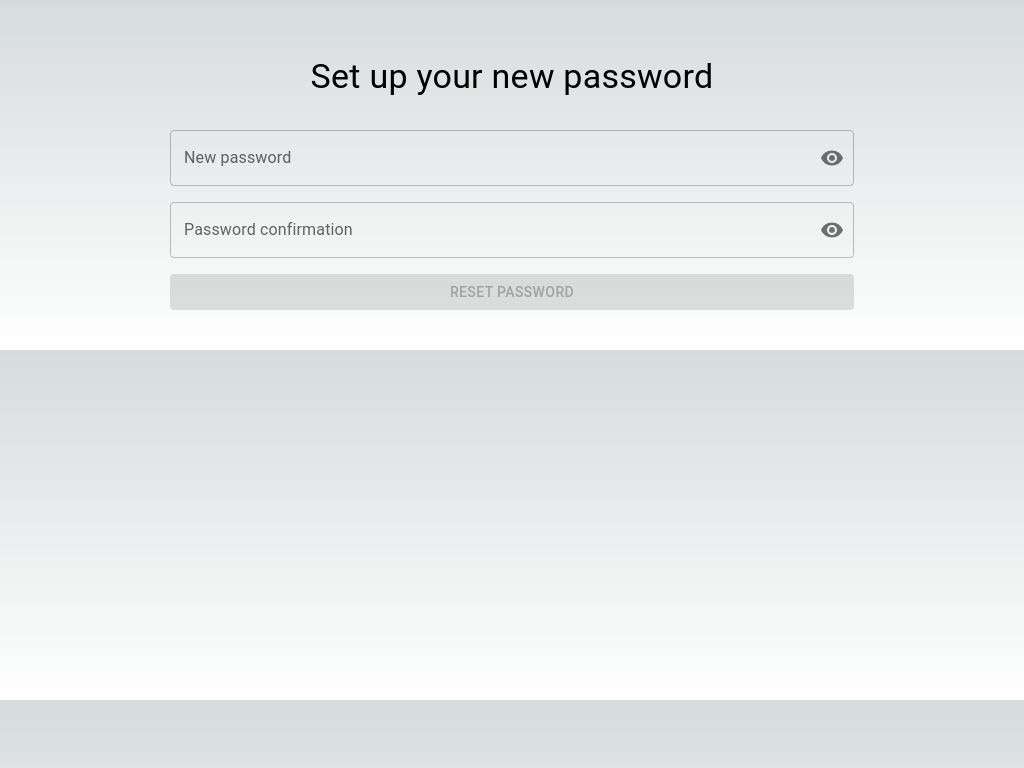
Test: Reset Password Container › Submit Button State › should be disabled if the passwords do not match
Type "Rodrizio.123" into the password field labelled "New password".
click(487, 158); type("Rodrizio.123")  # box [170,130,804,186]
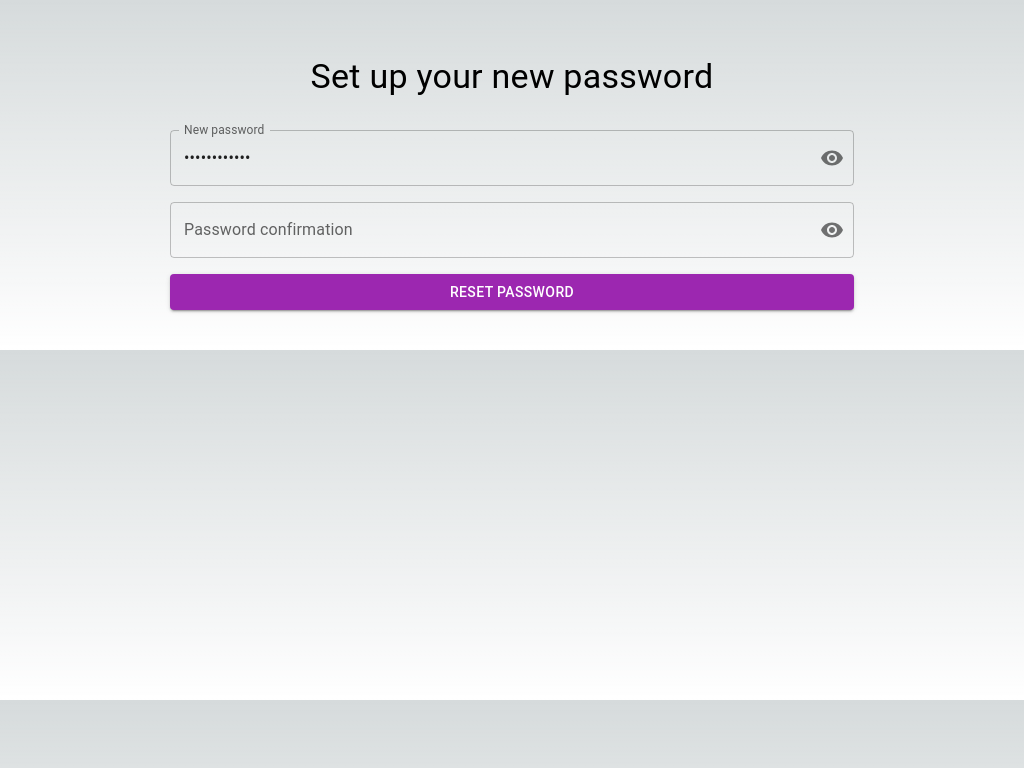
Type "Random.456" into the password field labelled "Password confirmation".
click(487, 230); type("Random.456")  # box [170,202,804,258]
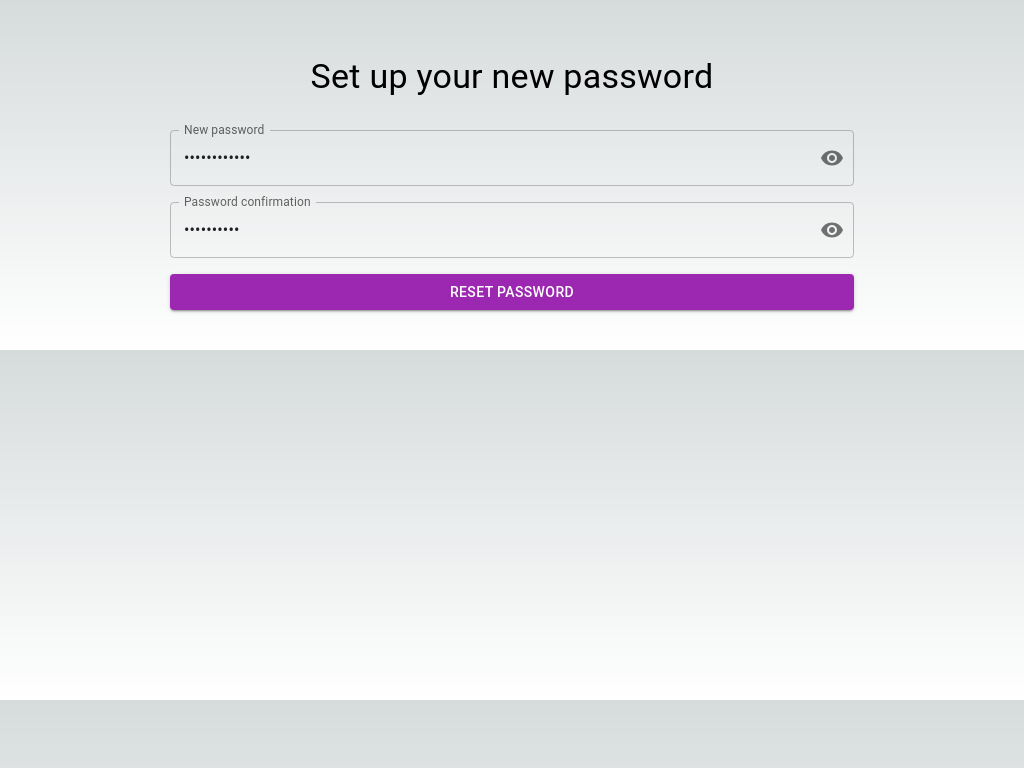
Leave the password field labelled "Password confirmation", box [170,202,804,258]
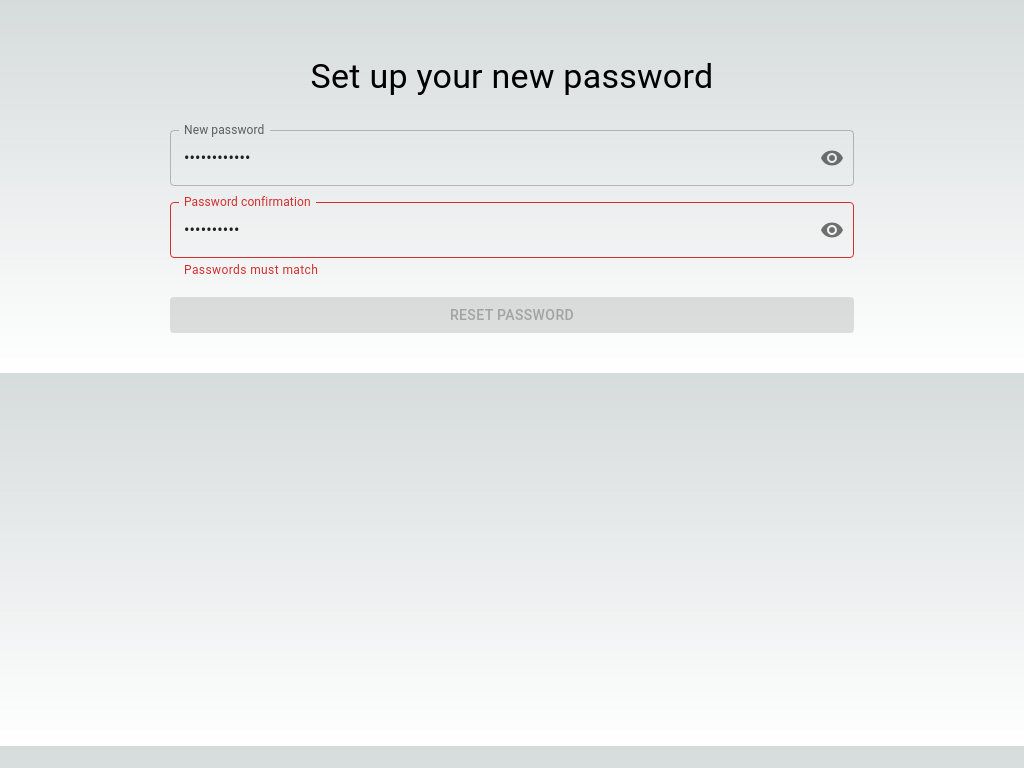
expect the button "Reset password" is disabled: met, box [170,297,854,333]
